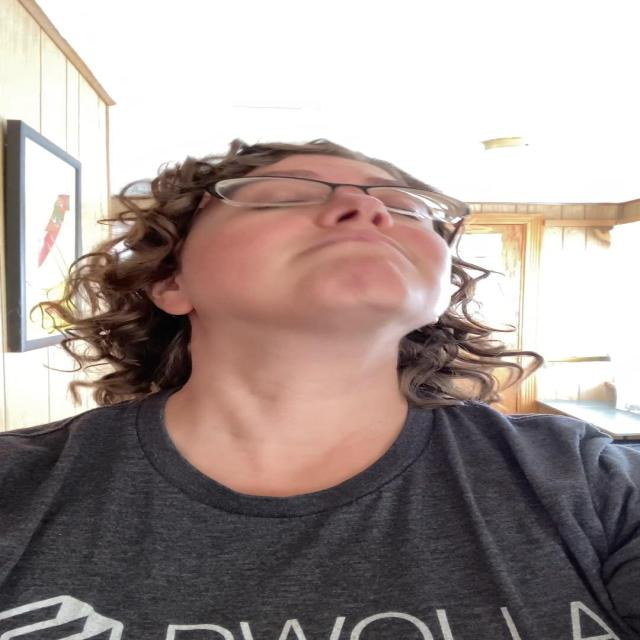no-helmet: (170, 148, 456, 347)
